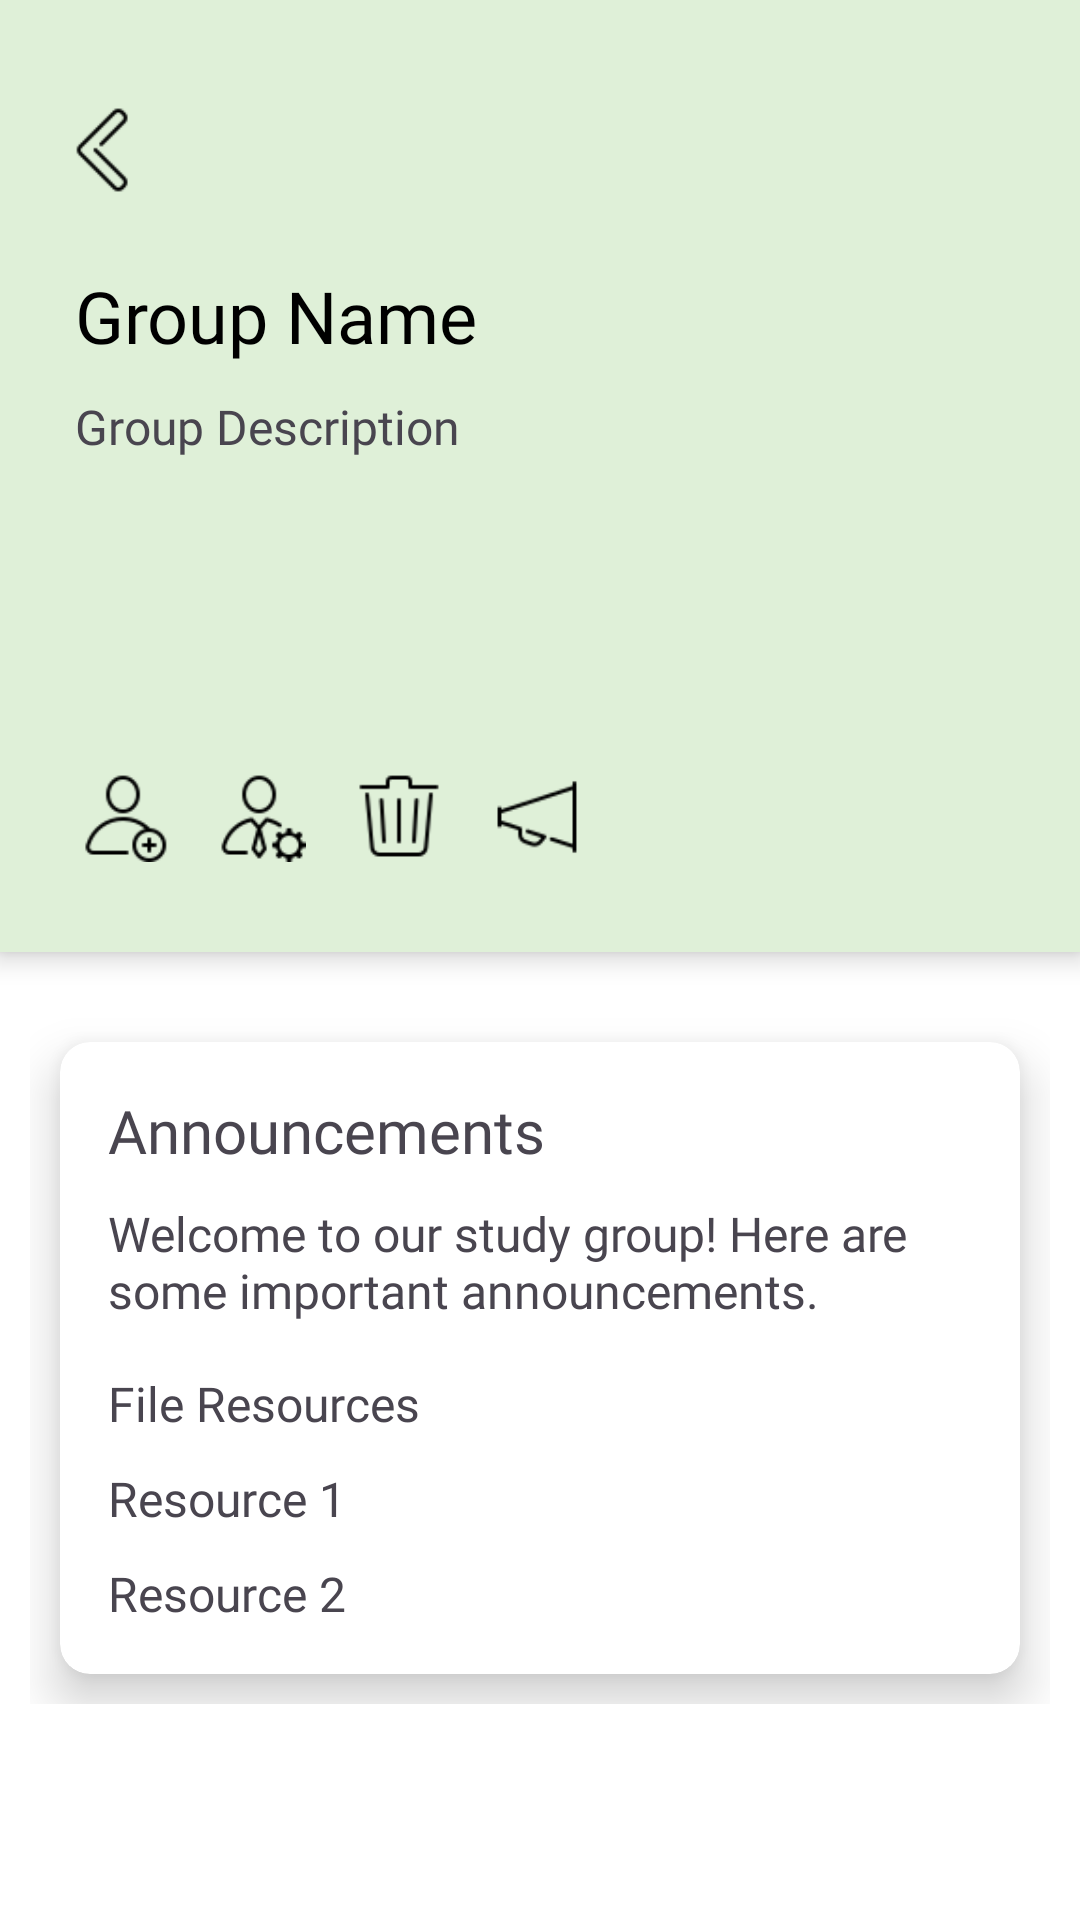

Point at icon controls on the screen. Image size 1080×1920, points as [x,y].
annoucement: [537,817]
back: [102,150]
delete: [399,816]
invite: [126,818]
manage member: [263,818]
